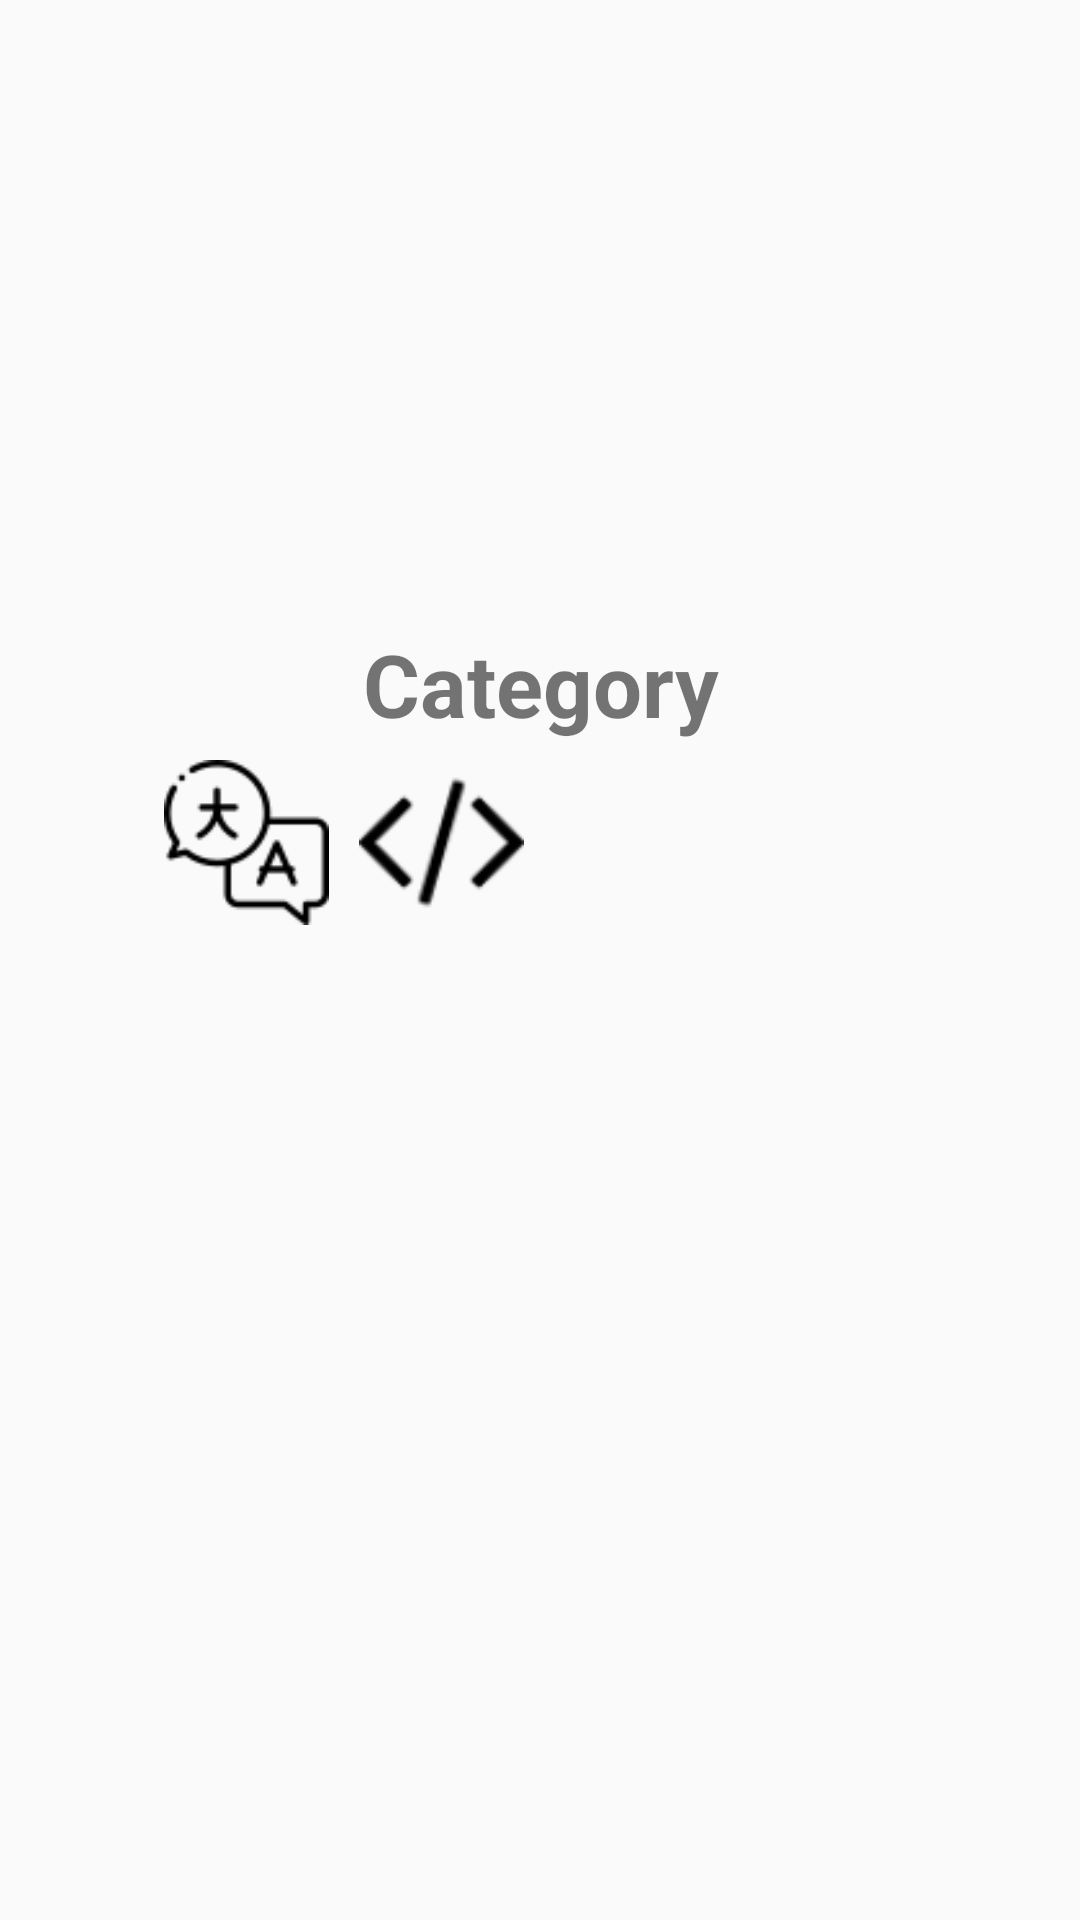

Icon bounding boxes for this 1080w x 1920h phone screenshot, format (x1, y1, x2, y2):
bahasa: (164, 760, 329, 925)
code: (359, 778, 524, 907)
